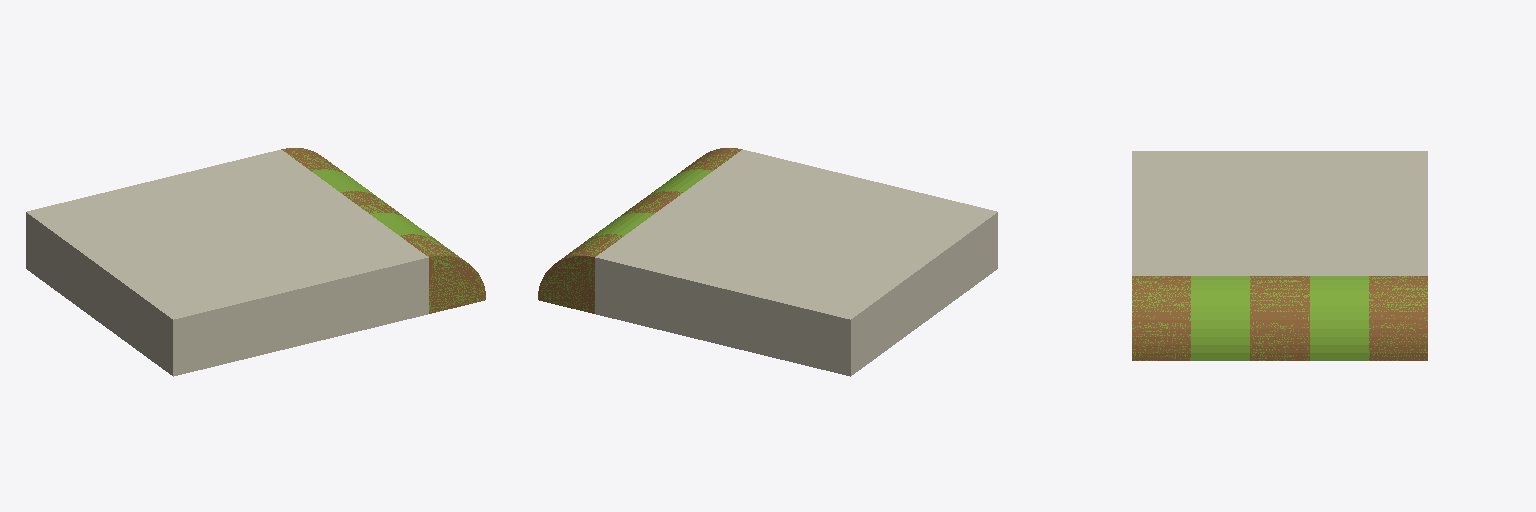
Rendered from building_009.obj.
3 renders of one model, left to right at view 1: azimuth 30°, elevation 25°; view 2: azimuth 150°, elevation 25°; view 3: azimuth 270°, elevation 25°, orthographic.
Parts seen in each view (by area): view 1: building_009; view 2: building_009; view 3: building_009.
Part boxes in pixels (x1,y1,x2,y2): building_009: (26, 148, 485, 376); building_009: (538, 148, 997, 376); building_009: (1132, 151, 1427, 360).
Bounding box in the file's own units: 1.23 × 0.2125 × 1.